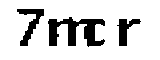7: (14, 5, 45, 52)
c: (91, 16, 111, 50)
m: (47, 17, 91, 52)
r: (116, 15, 145, 51)
